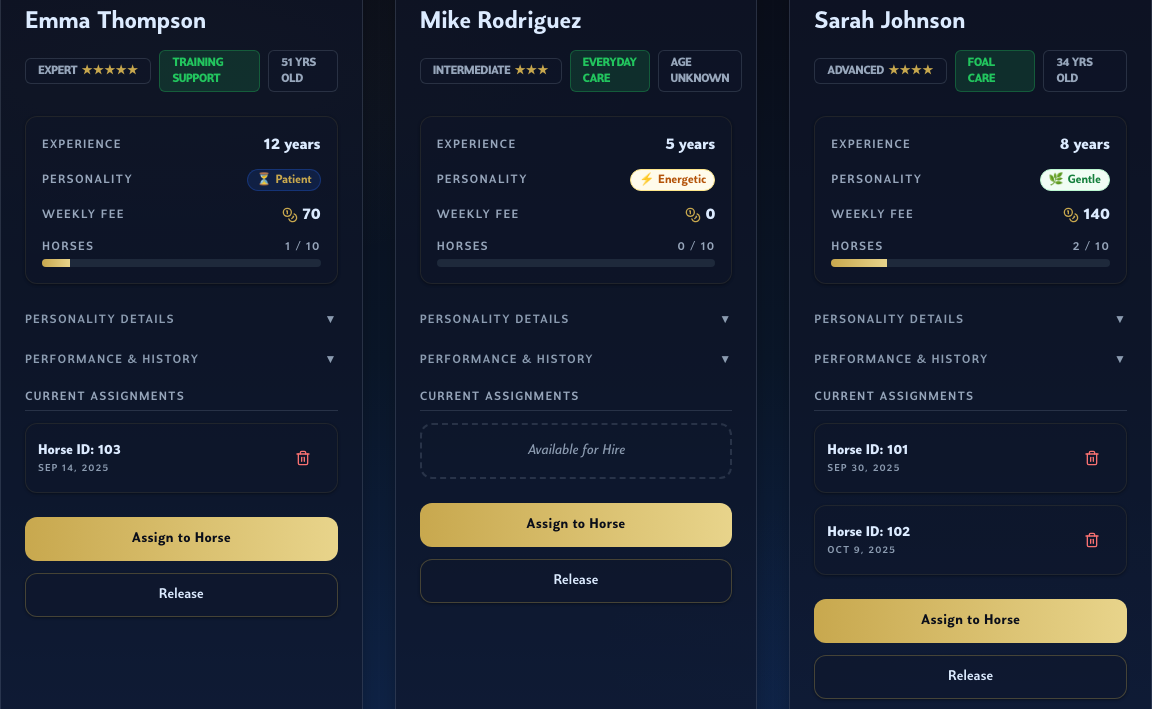
Test: MyGroomsDashboard Component › Equoria-cbkw — Performance & History panel › toggling again collapses the panel
(page scrolled)
Click the button with test id "groom-detail-toggle-1": (971,360) [814,348,1127,372]
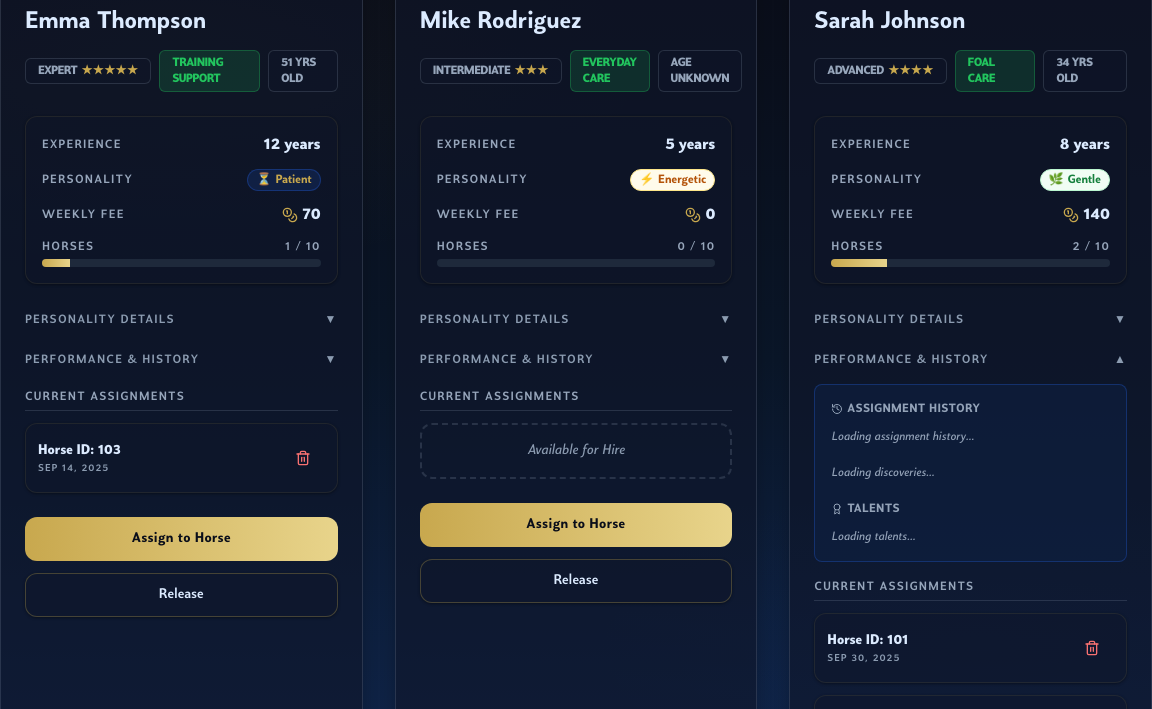
Result: the element with test id "groom-detail-panel-1" is shown at [814,384,1127,562]
Click the button with test id "groom-detail-toggle-1": (971,360) [814,348,1127,372]
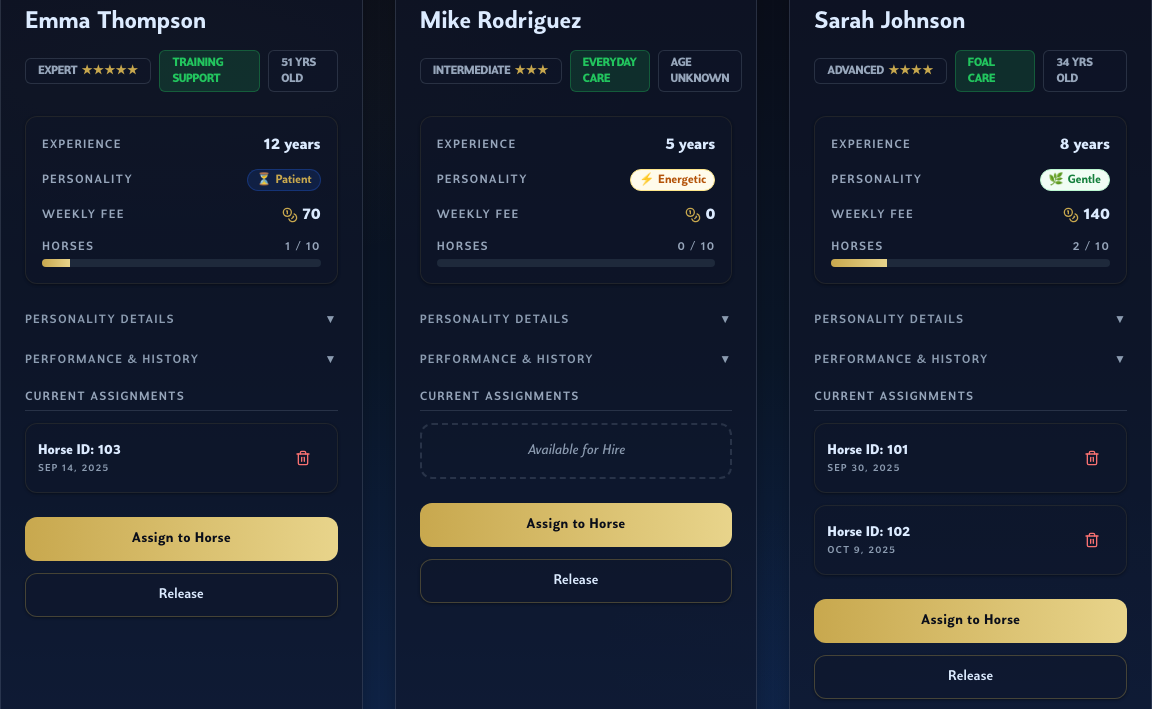
Result: the element with test id "groom-detail-panel-1" is gone
